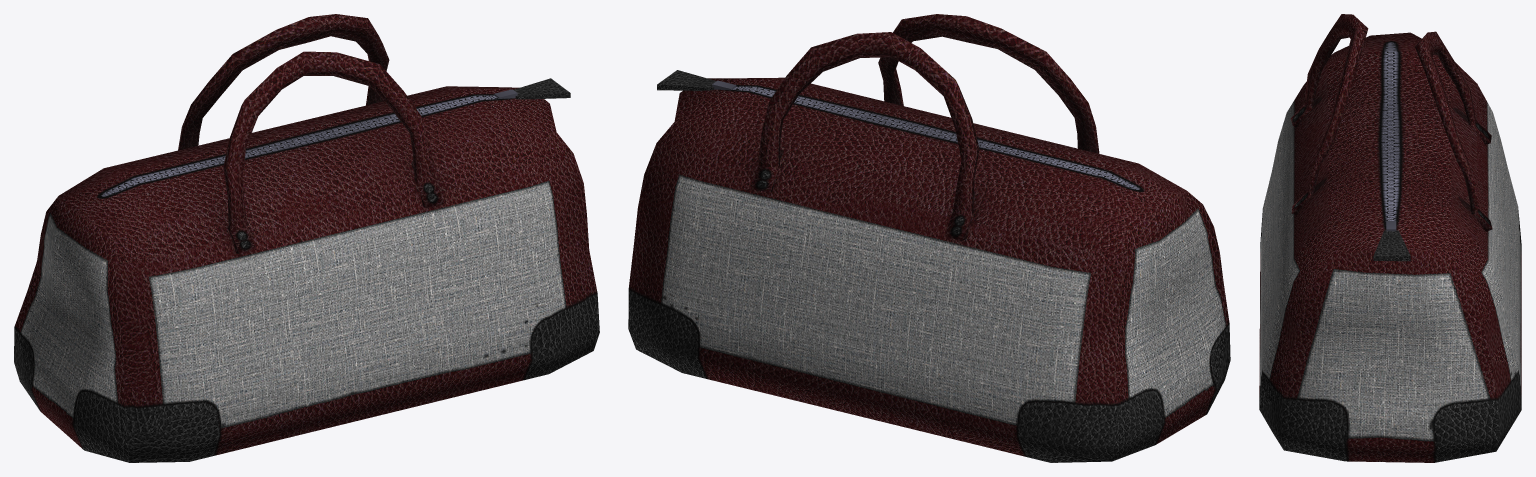
File: handbag_2.fbx
3 views of the same model, side by side, from view 1: azimuth 30°, elevation 25°; view 2: azimuth 150°, elevation 25°; view 3: azimuth 270°, elevation 25° (orthographic). The views are drawn at different scales.
Visible parts, largest first — view 1: handbag_2; view 2: handbag_2; view 3: handbag_2.
Part boxes in pixels (box(x1,y1,x2,y2)): handbag_2: box(14, 14, 599, 462); handbag_2: box(628, 14, 1230, 462); handbag_2: box(1259, 14, 1521, 462).
Size of the model in its own units: 0.9183 by 0.5894 by 0.426.
